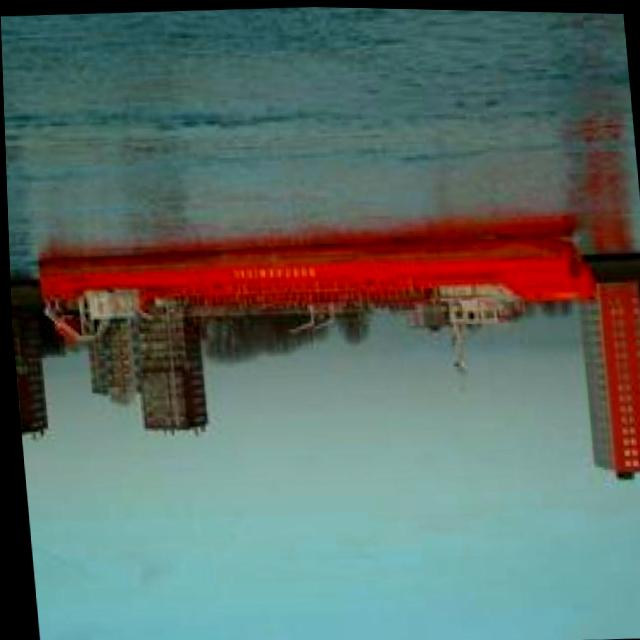ship2: (34, 233, 592, 373)
